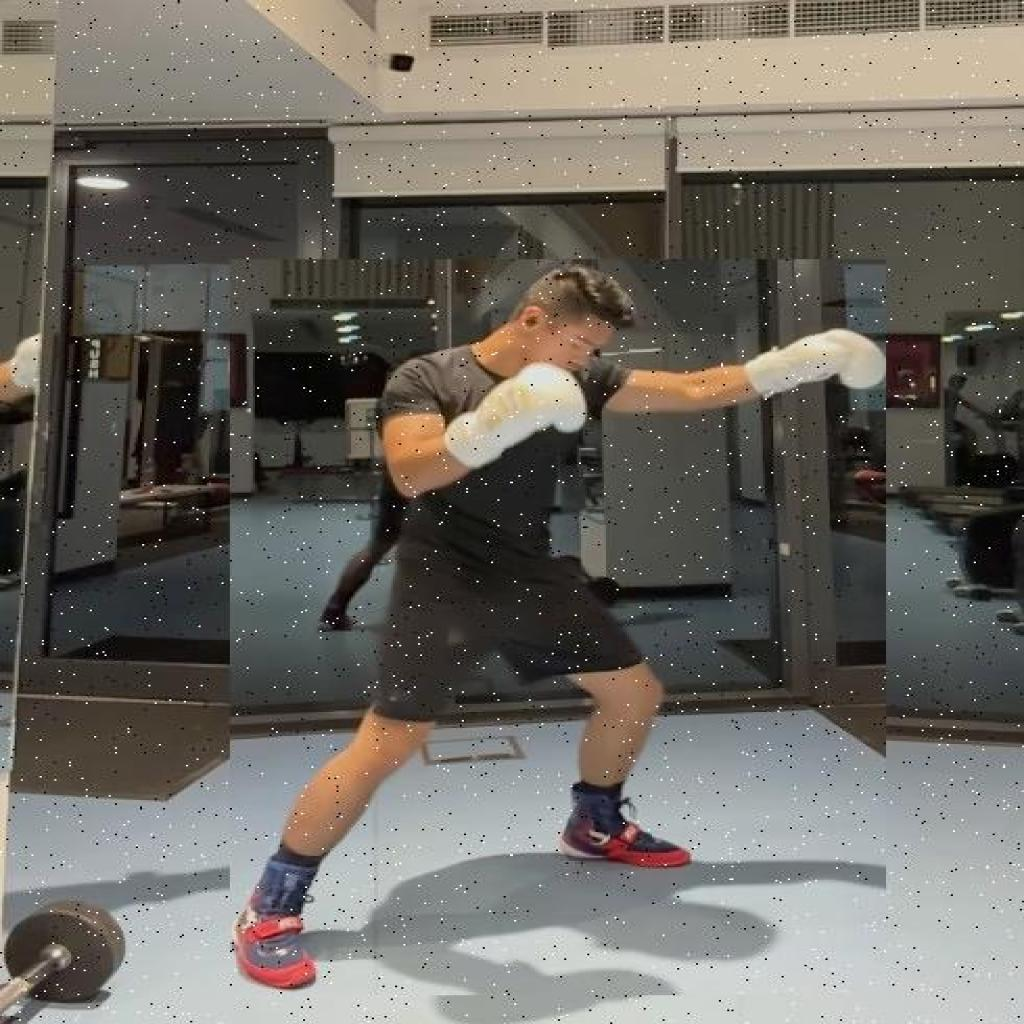jab: (230, 260, 885, 994)
